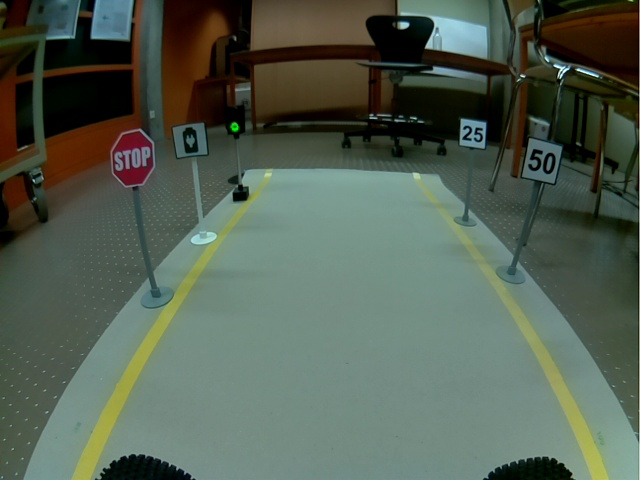battery: (171, 121, 209, 159)
speed25: (458, 116, 487, 150)
speed50: (520, 135, 564, 185)
stop: (110, 129, 156, 188)
trafficLightGreen: (225, 104, 246, 135)
